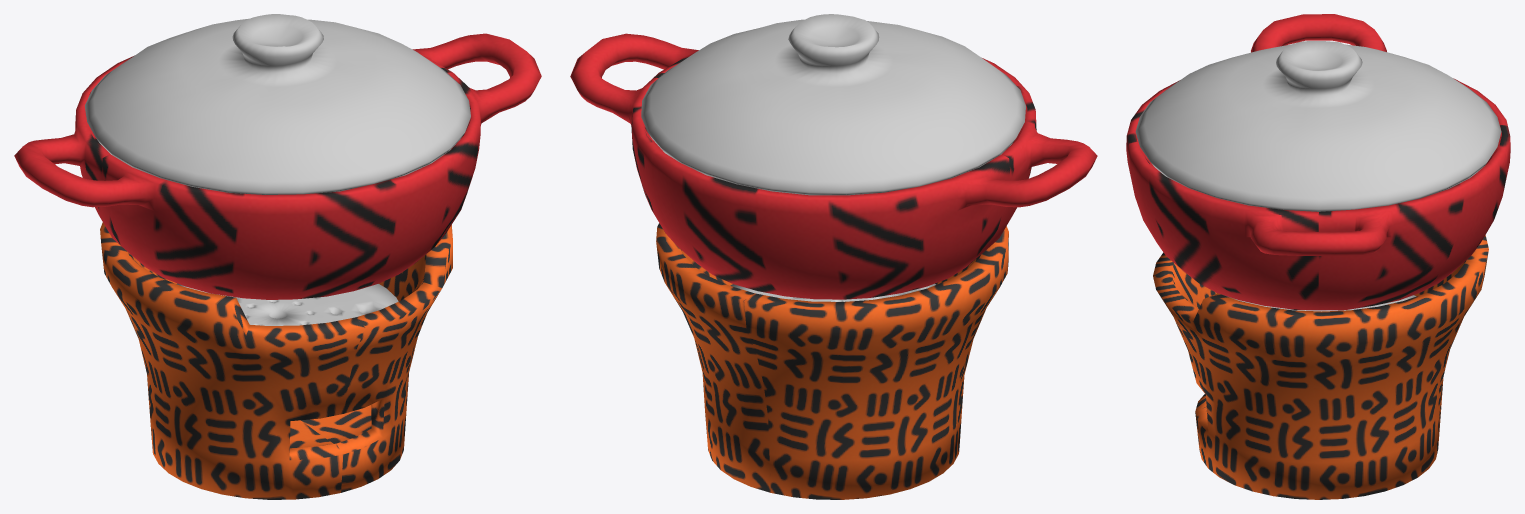
The model's file is claypot.fbx.
The picture shows the model from 3 angles, left to right: view 1: azimuth 30°, elevation 25°; view 2: azimuth 150°, elevation 25°; view 3: azimuth 270°, elevation 25°; orthographic projection. The views are drawn at different scales.
Visible parts, largest first — view 1: forno low, tampa low, panela low, bisnaga low; view 2: forno low, tampa low, panela low, bisnaga low; view 3: forno low, tampa low, panela low.
Part boxes in pixels (box(x1,y1,x2,y2)): forno low: box(100, 222, 452, 499); tampa low: box(85, 14, 470, 194); panela low: box(14, 33, 541, 299); bisnaga low: box(176, 283, 398, 325); forno low: box(656, 223, 1008, 499); tampa low: box(641, 14, 1025, 195); panela low: box(570, 33, 1097, 299); bisnaga low: box(730, 283, 935, 301); forno low: box(1153, 235, 1488, 499); tampa low: box(1135, 41, 1501, 211); panela low: box(1126, 14, 1510, 310).
Bounding box in the file's own units: 90.65 × 73.01 × 64.4.
